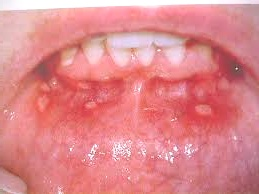Ulcer: (36, 77, 54, 115), (80, 96, 108, 110), (191, 104, 218, 115)
